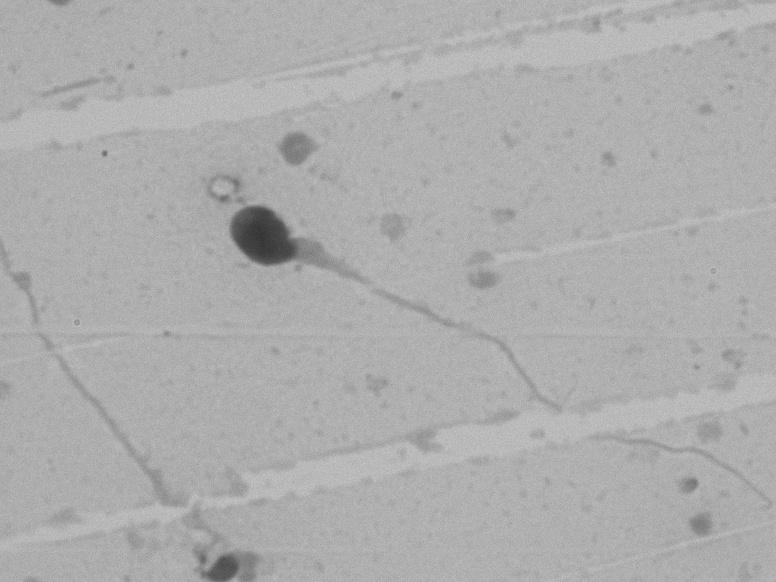Abnormal: (195, 181, 551, 424)
